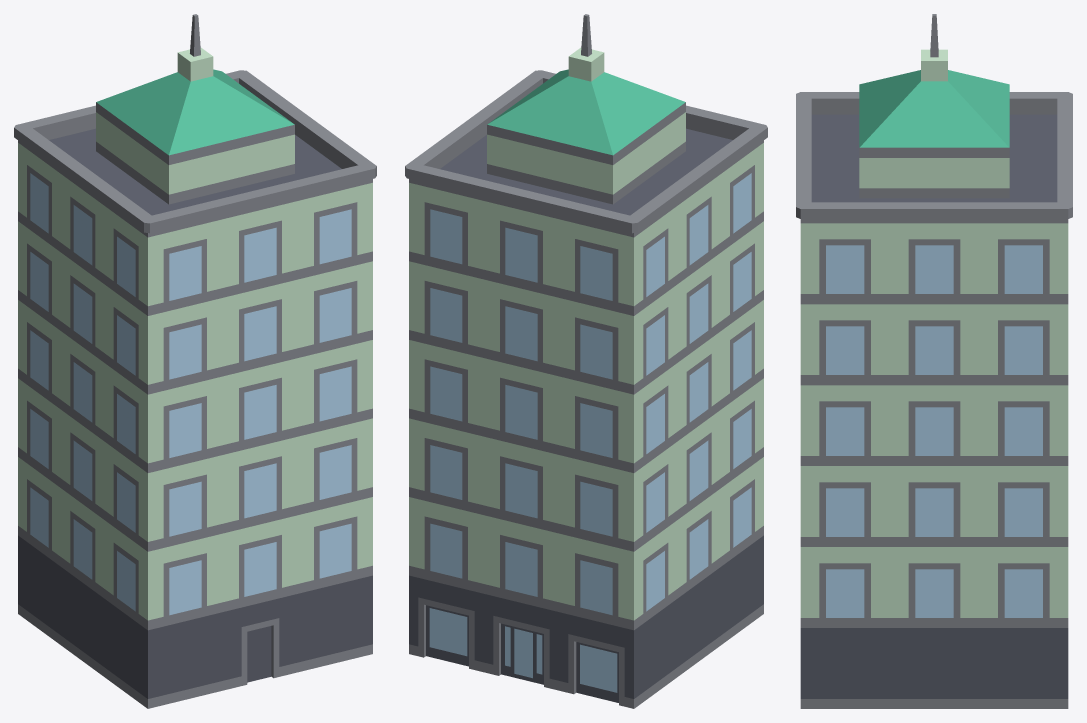
The model's file is Skyscraper.glb.
The picture shows the model from 3 angles, left to right: view 1: azimuth 30°, elevation 25°; view 2: azimuth 150°, elevation 25°; view 3: azimuth 270°, elevation 25°; orthographic projection. The views are drawn at different scales.
Visible parts, largest first — view 1: skyscraperE; view 2: skyscraperE; view 3: skyscraperE.
Part boxes in pixels (x1,y1,x2,y2): skyscraperE: (14, 14, 376, 708); skyscraperE: (405, 14, 767, 708); skyscraperE: (796, 14, 1072, 708).
Size of the model in its own units: 1.24 by 3.15 by 1.24.
